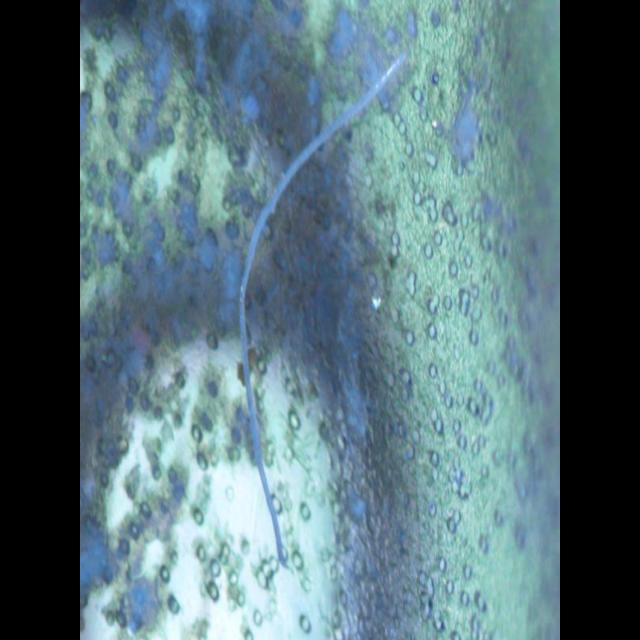Fibre: (237, 49, 408, 575)
